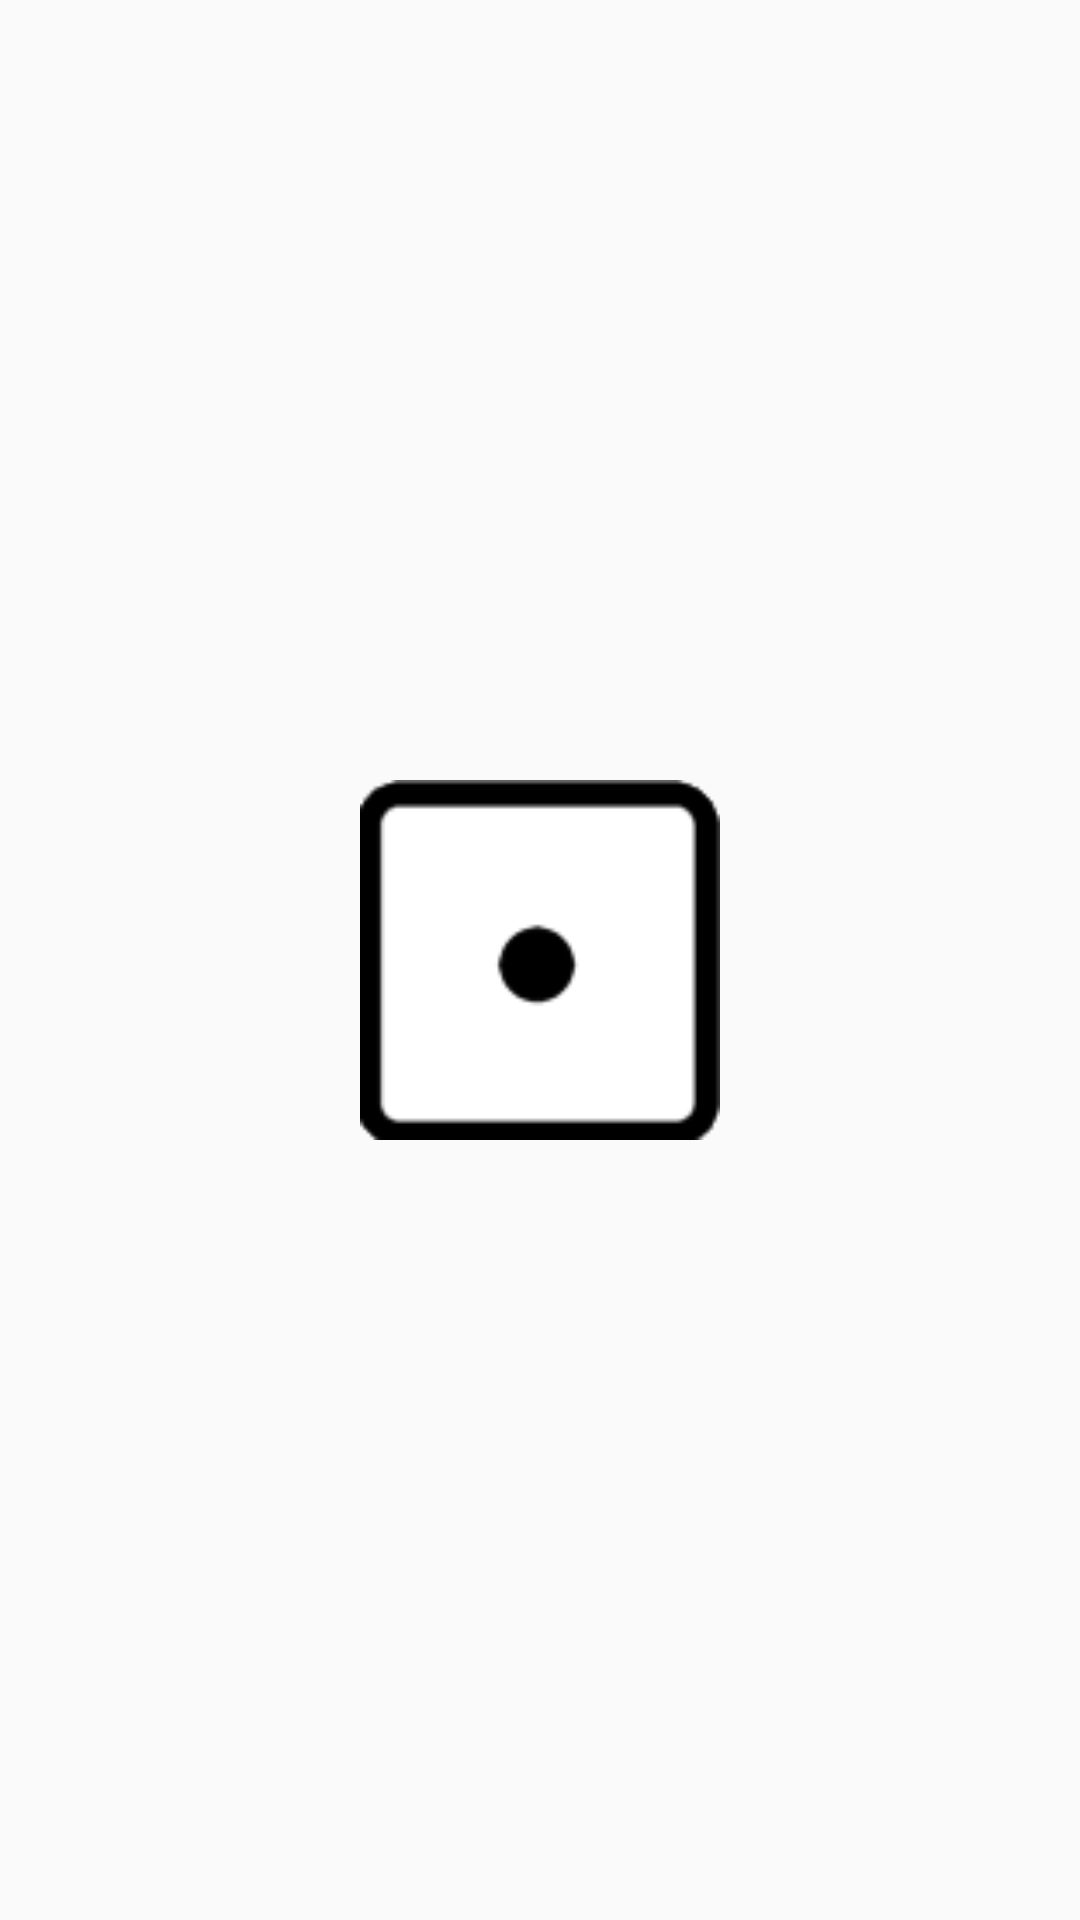

Where icons sit on this 1080w x 1920h app screen, as (x1, y1, x2, y2):
dice: (360, 780, 720, 1140)
